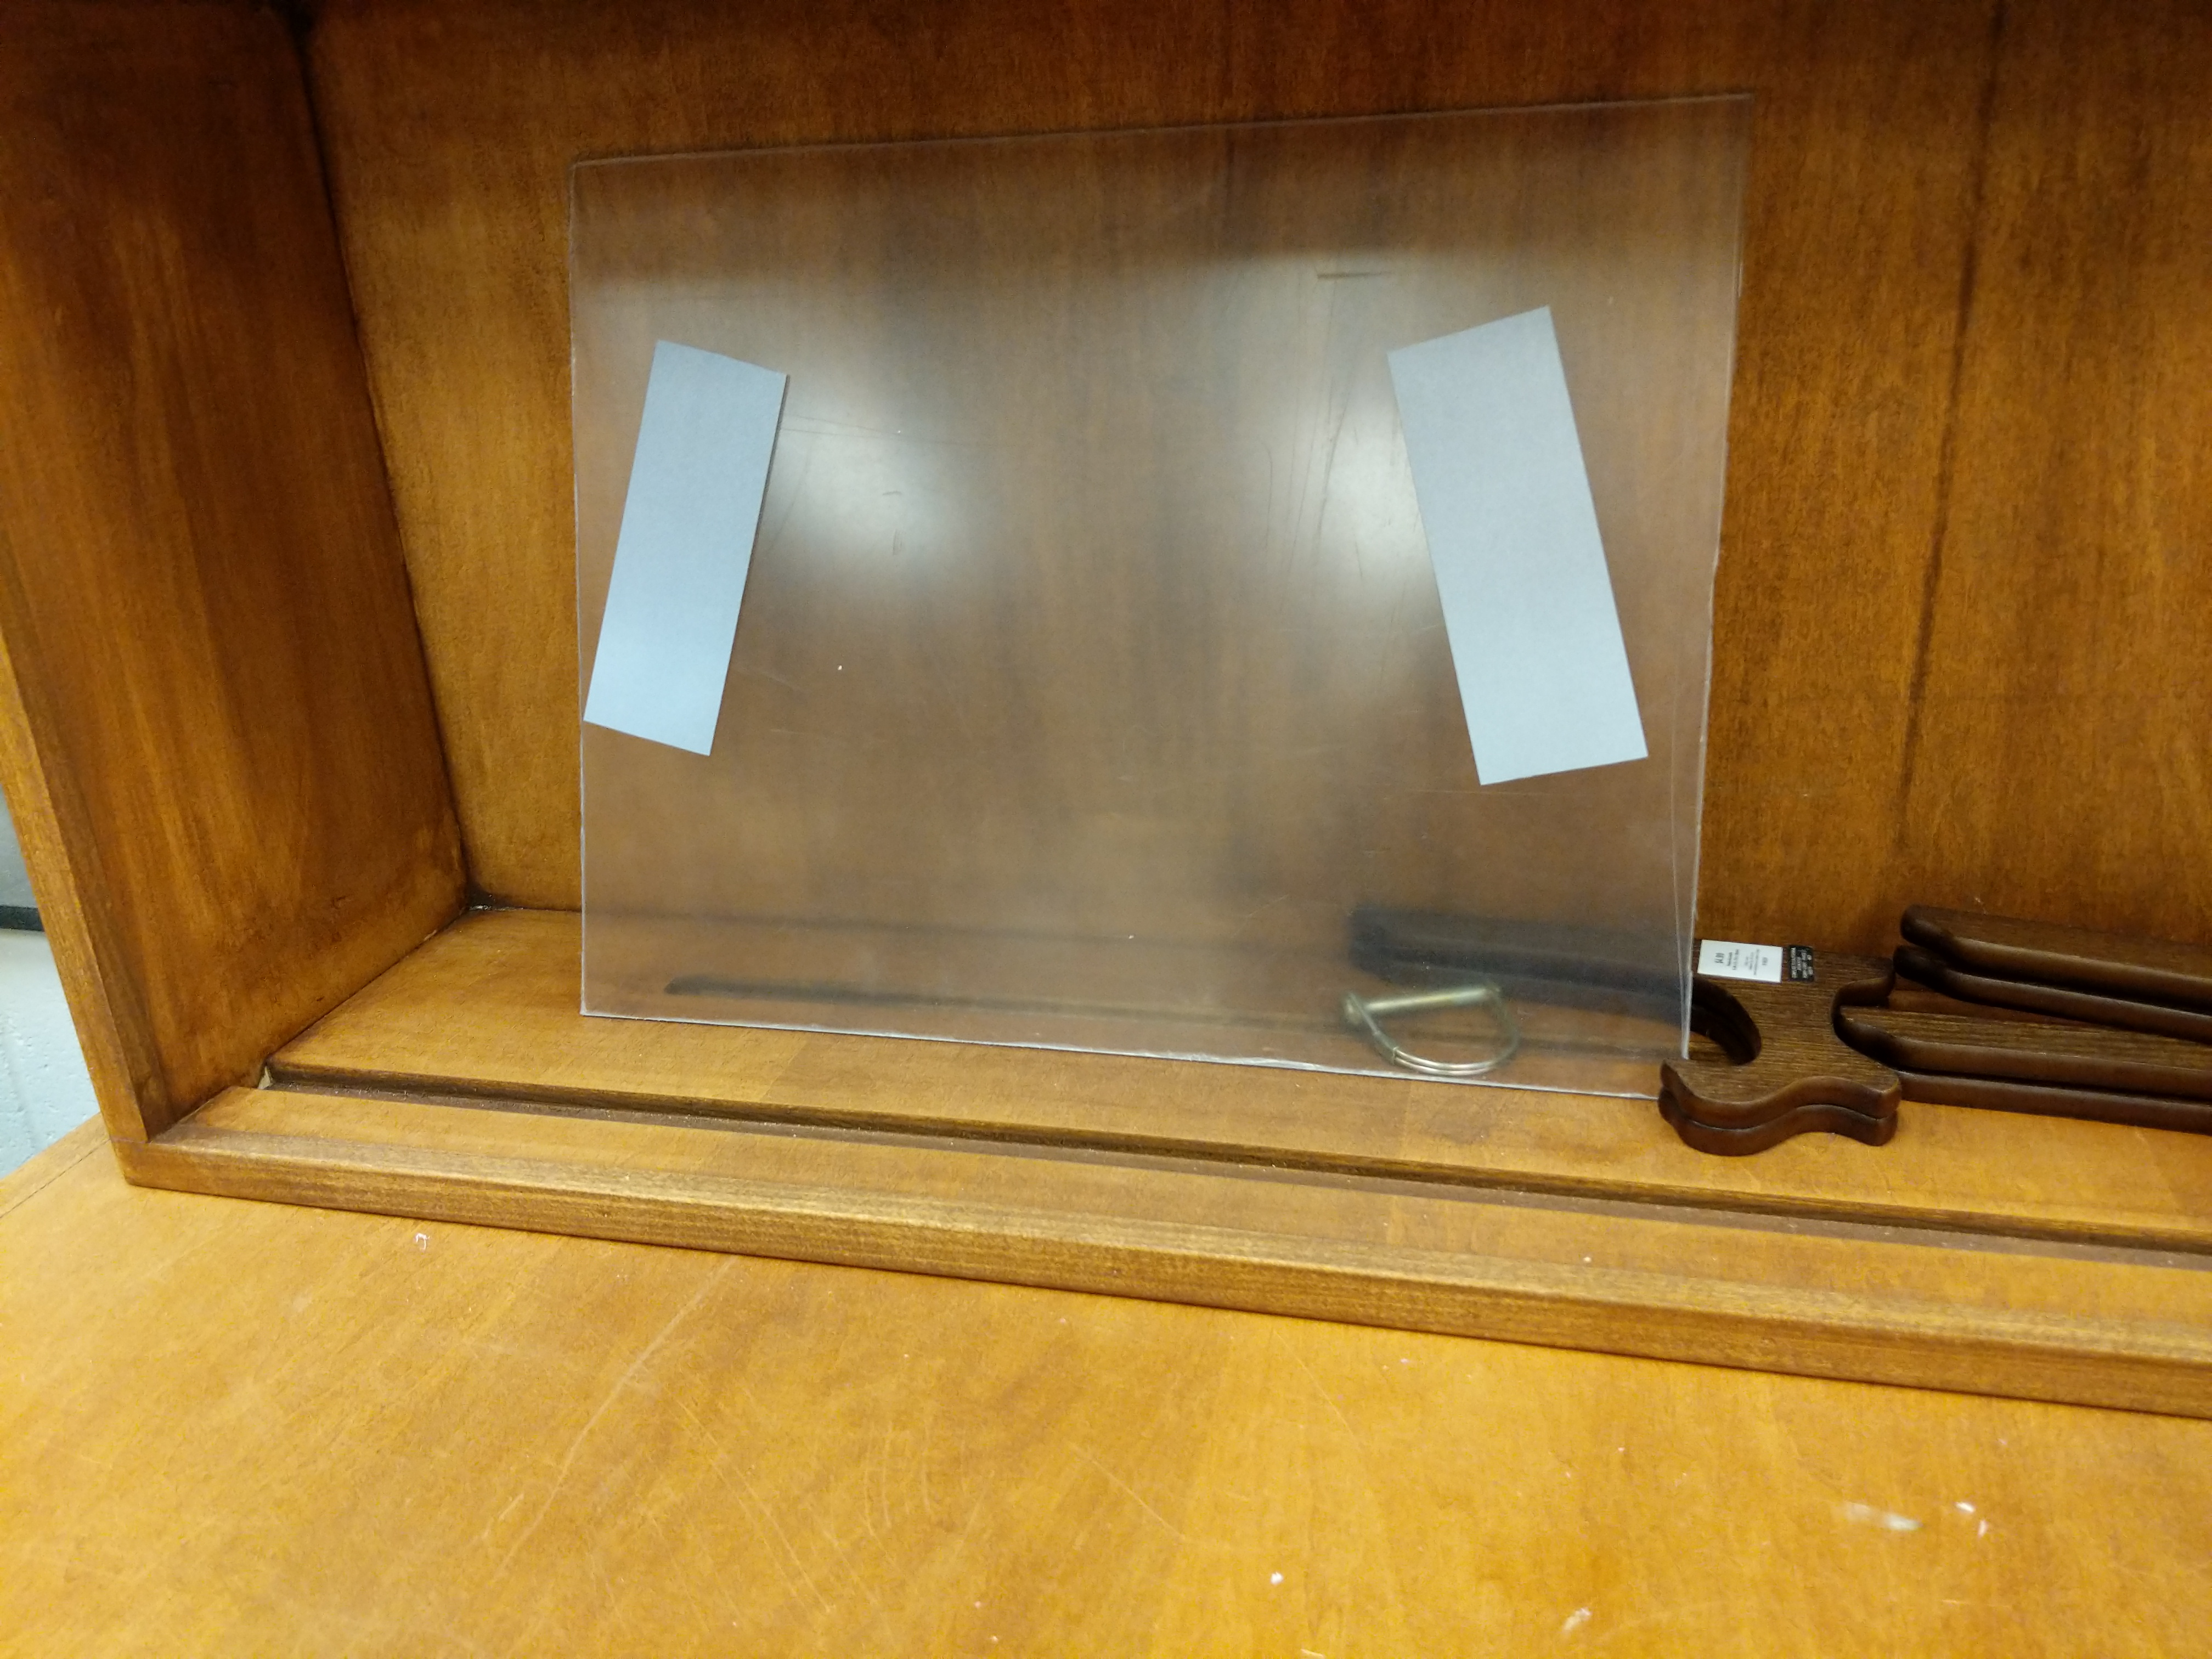vision_target: (573, 303, 1667, 803)
